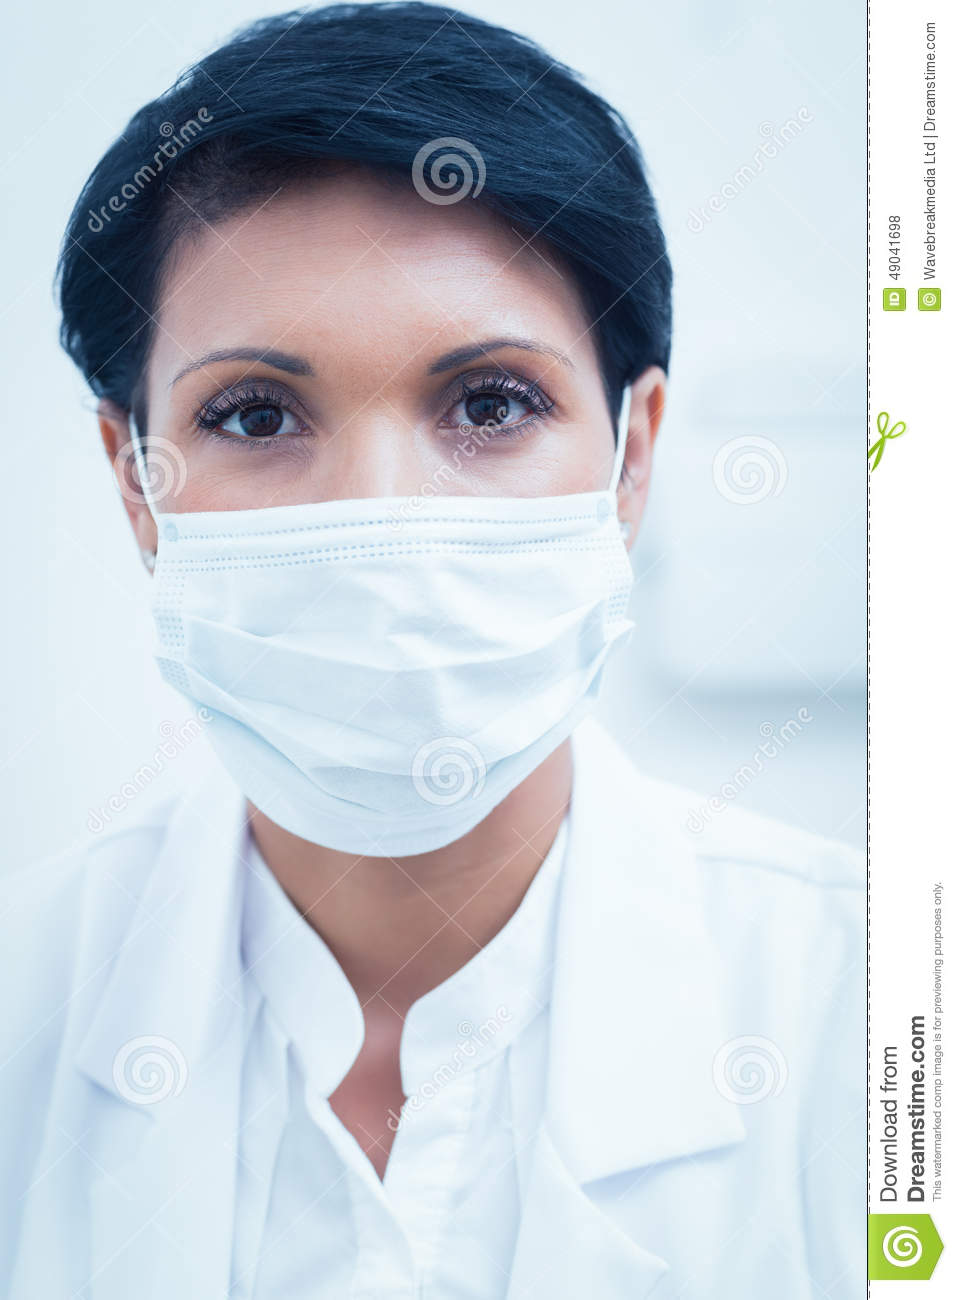mask: (132, 503, 662, 855)
